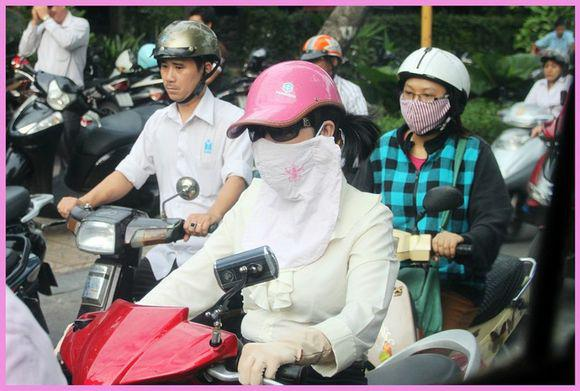NONE: (160, 60, 202, 101), (544, 62, 559, 81)
OK: (249, 113, 325, 189), (401, 82, 452, 132)
